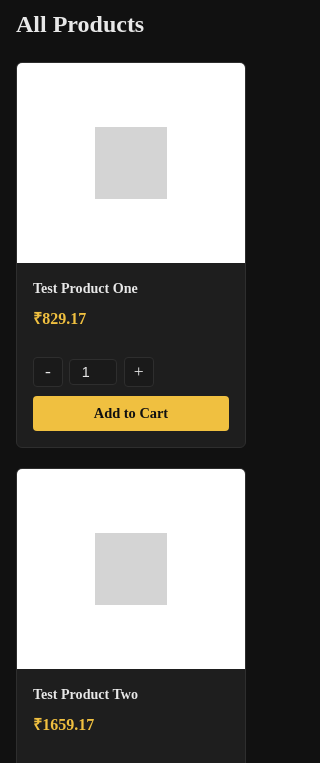
Shop › increments quantity when + button is clicked
Click the button named "increase quantity".
click(139, 372)  # box 124,357 -> 154,387
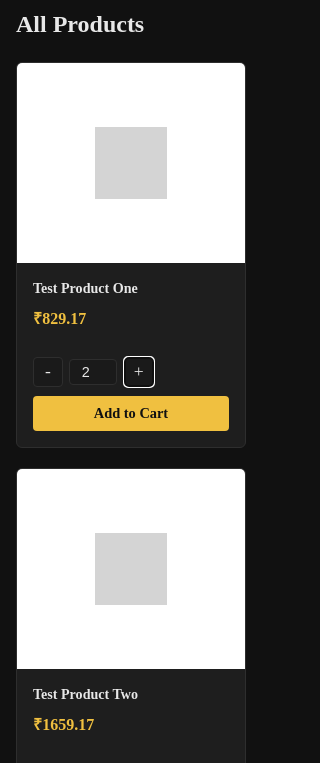
Check: the number field named "quantity" below "829.17" holds "2", box 69,359 -> 117,385
